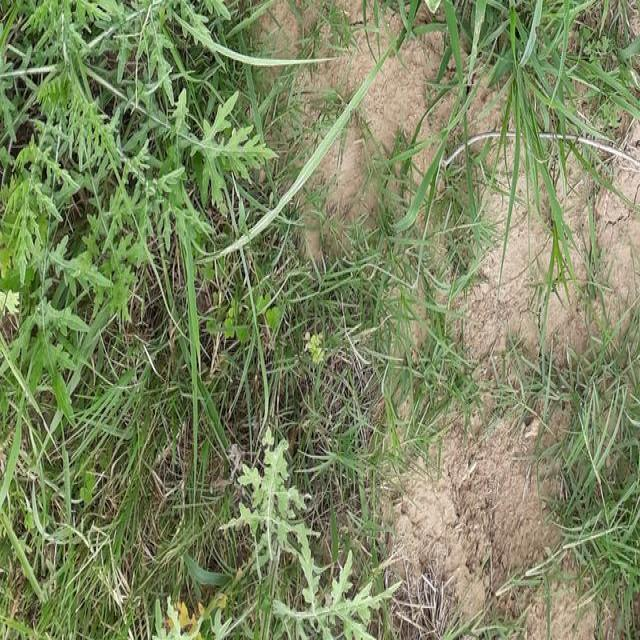weed: (4, 338, 413, 640), (412, 5, 640, 228), (567, 329, 640, 640)
